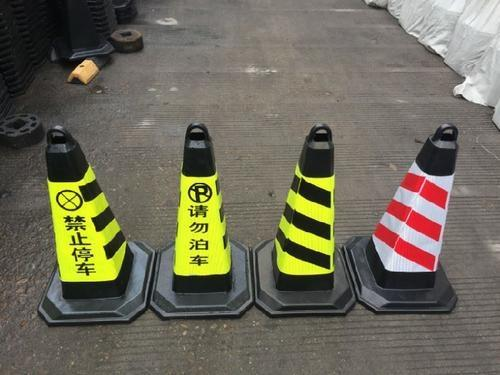cone_barrel: (355, 121, 470, 305), (32, 124, 140, 303), (162, 127, 239, 303), (266, 126, 346, 291)
